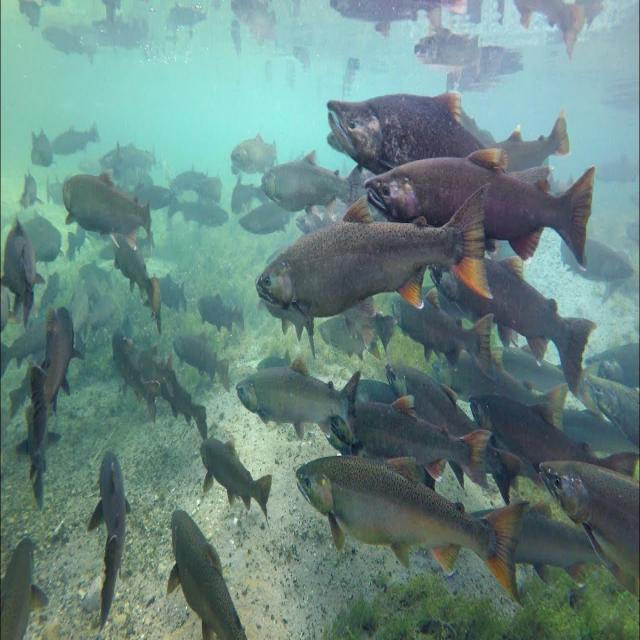salmon: (256, 192, 504, 354), (291, 447, 529, 606), (314, 74, 575, 182), (363, 153, 596, 272)
